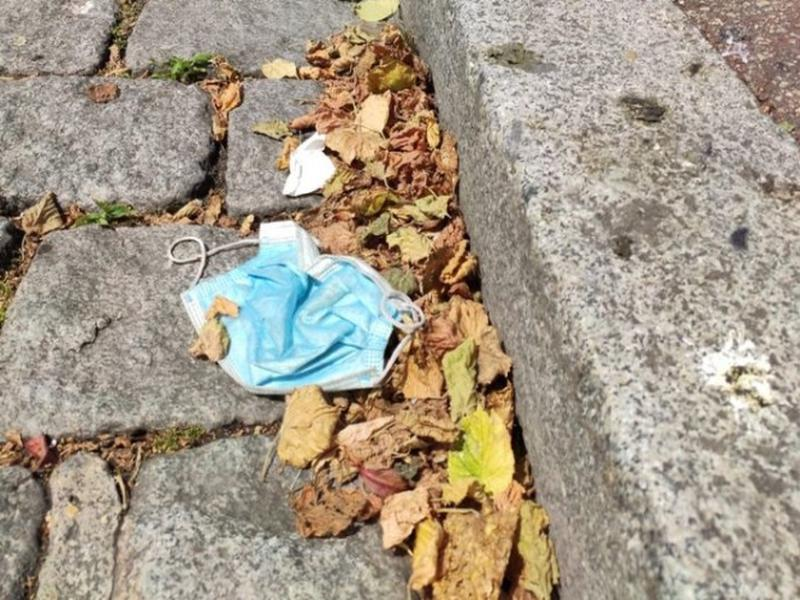leaf: (436, 407, 517, 504), (269, 387, 343, 470), (188, 294, 249, 361), (439, 335, 482, 422), (377, 486, 432, 548), (315, 121, 387, 165), (18, 187, 64, 236), (408, 185, 456, 217), (259, 56, 301, 81)
mask: (168, 222, 427, 394)
